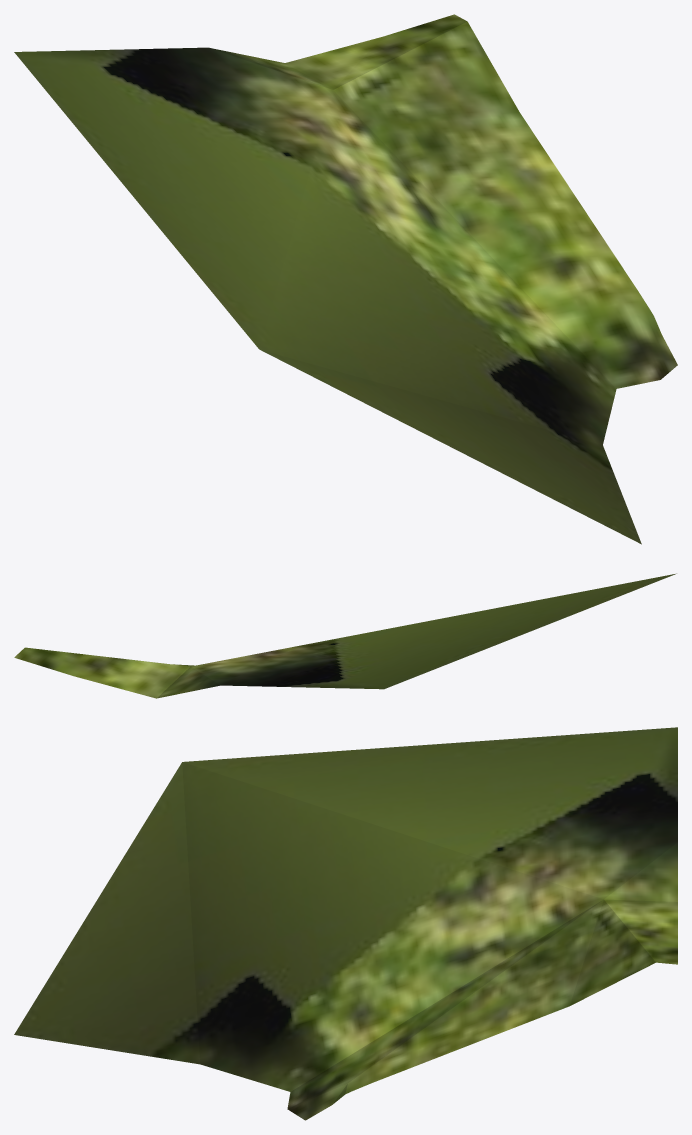
The picture shows the model from 3 angles, top to bottom: view 1: azimuth 30°, elevation 25°; view 2: azimuth 150°, elevation 25°; view 3: azimuth 270°, elevation 25°; orthographic projection. The views are drawn at different scales.
Bounding box in the file's own units: 1.33 × 0.6645 × 1.87.
Materials: 1 (1 with a texture image).
